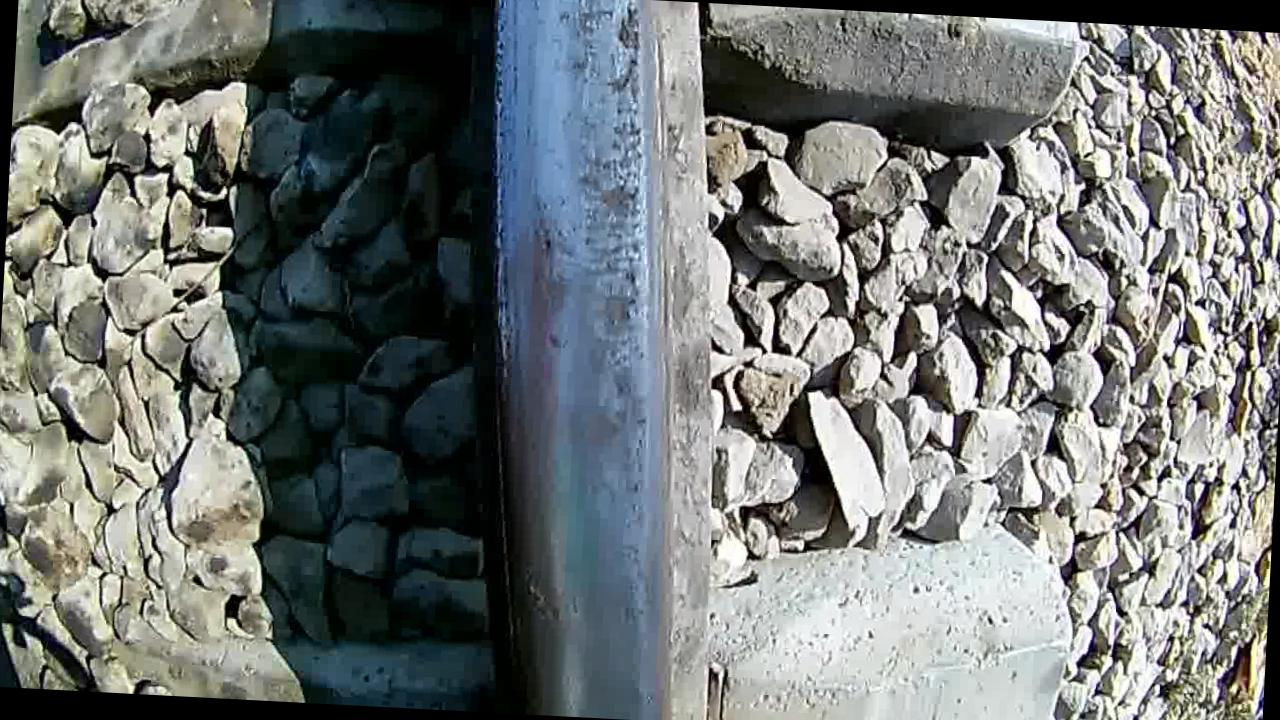crack: (464, 0, 723, 720)
